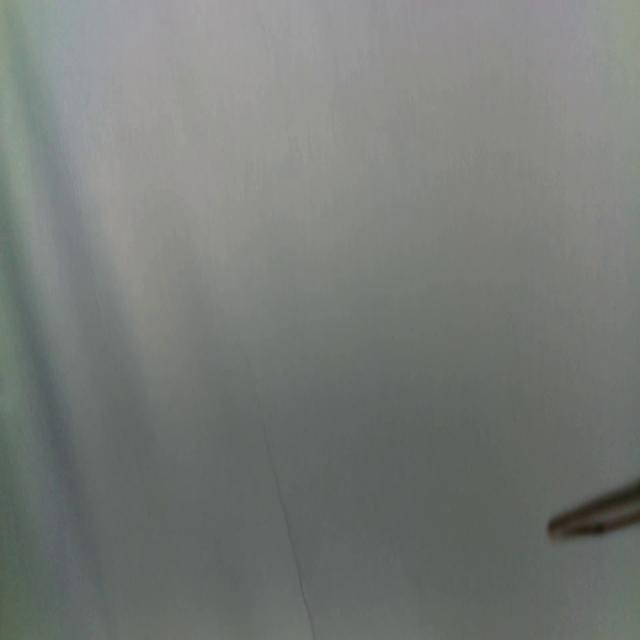crease: (262, 417, 319, 640)
